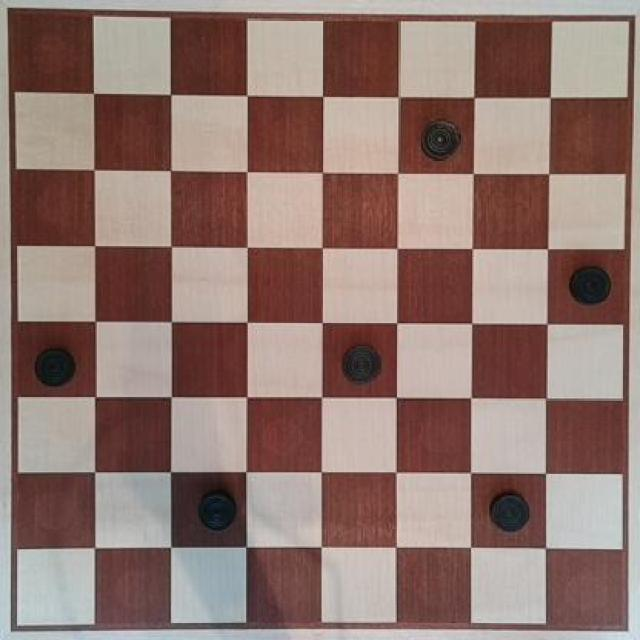BOARD: (8, 10, 625, 629)
black: (186, 482, 240, 542), (482, 483, 532, 538), (336, 337, 386, 389), (28, 337, 76, 391), (413, 118, 465, 166), (562, 260, 611, 303)
